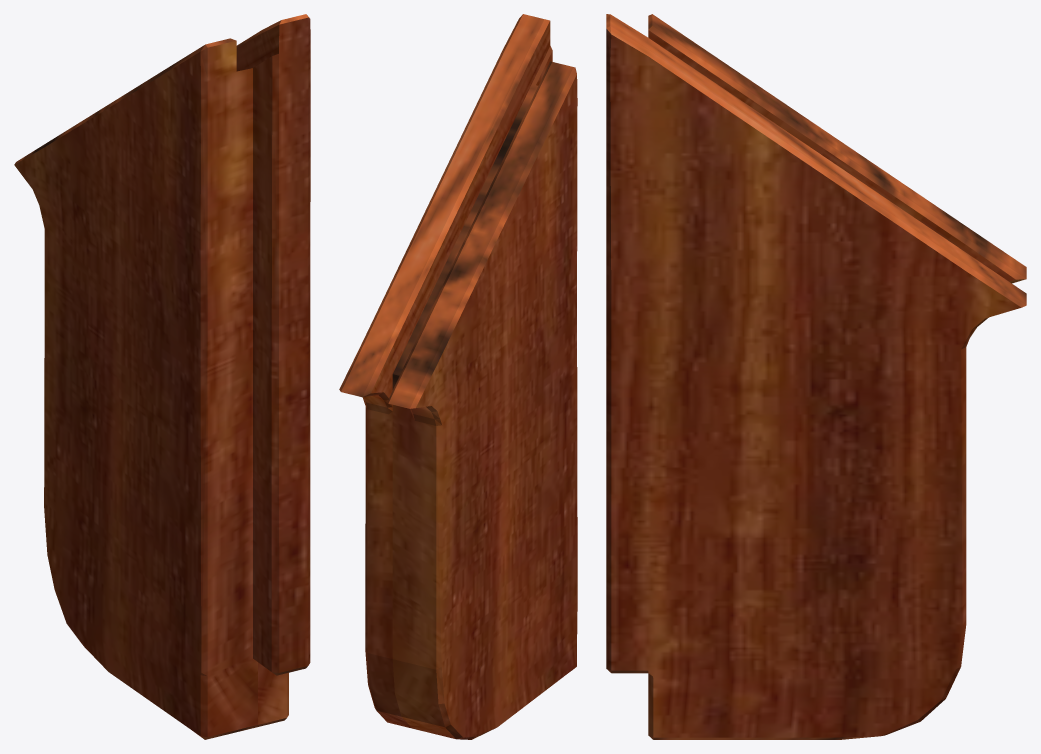
File: SJ_J_yatou_04.FBX
3 renders of one model, left to right at view 1: azimuth 30°, elevation 25°; view 2: azimuth 150°, elevation 25°; view 3: azimuth 270°, elevation 25°, orthographic. The views are drawn at different scales.
Parts seen in each view (by area): view 1: SJ_J_yatou_04; view 2: SJ_J_yatou_04; view 3: SJ_J_yatou_04.
Boxes of the visible parts, x1,y1,x2,y2 form: SJ_J_yatou_04: [14, 14, 310, 739]; SJ_J_yatou_04: [339, 14, 577, 739]; SJ_J_yatou_04: [606, 14, 1026, 739].
Size of the model in its own units: 1.21 by 9.37 by 5.
2 materials, 2 textured.
